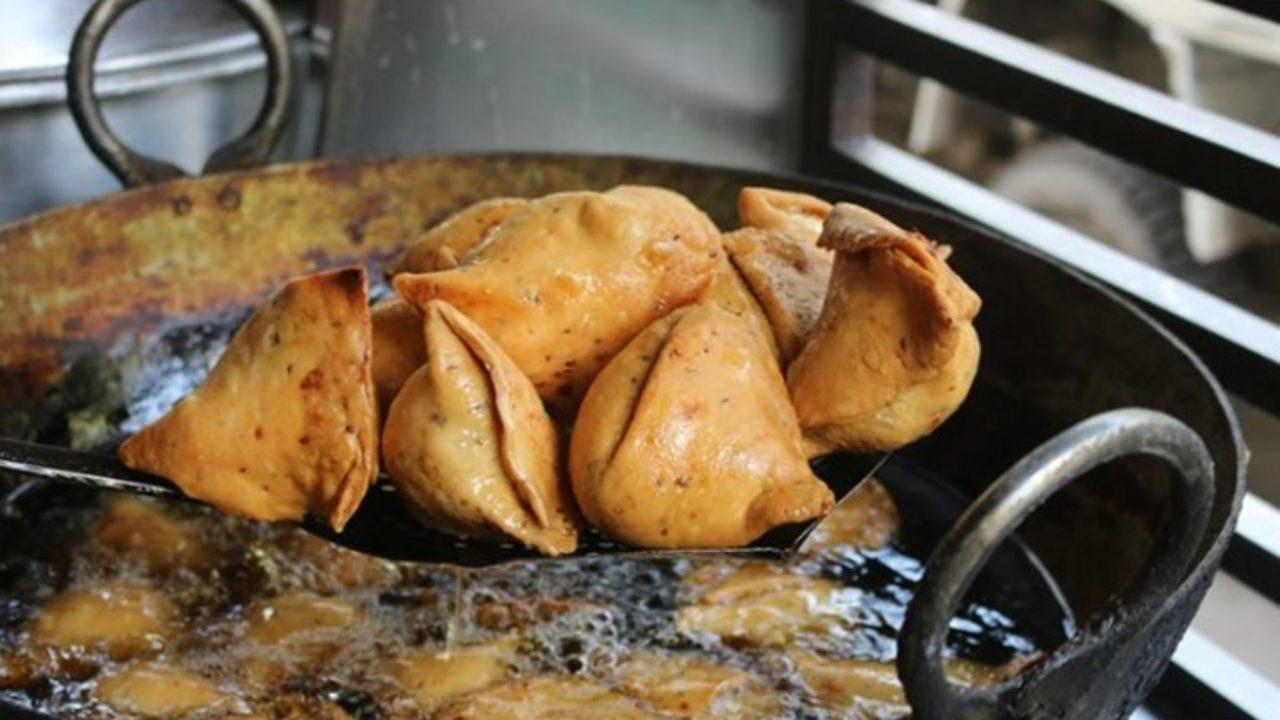samosa: (570, 270, 835, 548), (392, 185, 728, 402), (118, 265, 380, 531)
